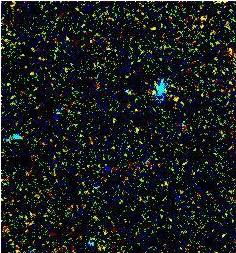star: (160, 82, 190, 112)
